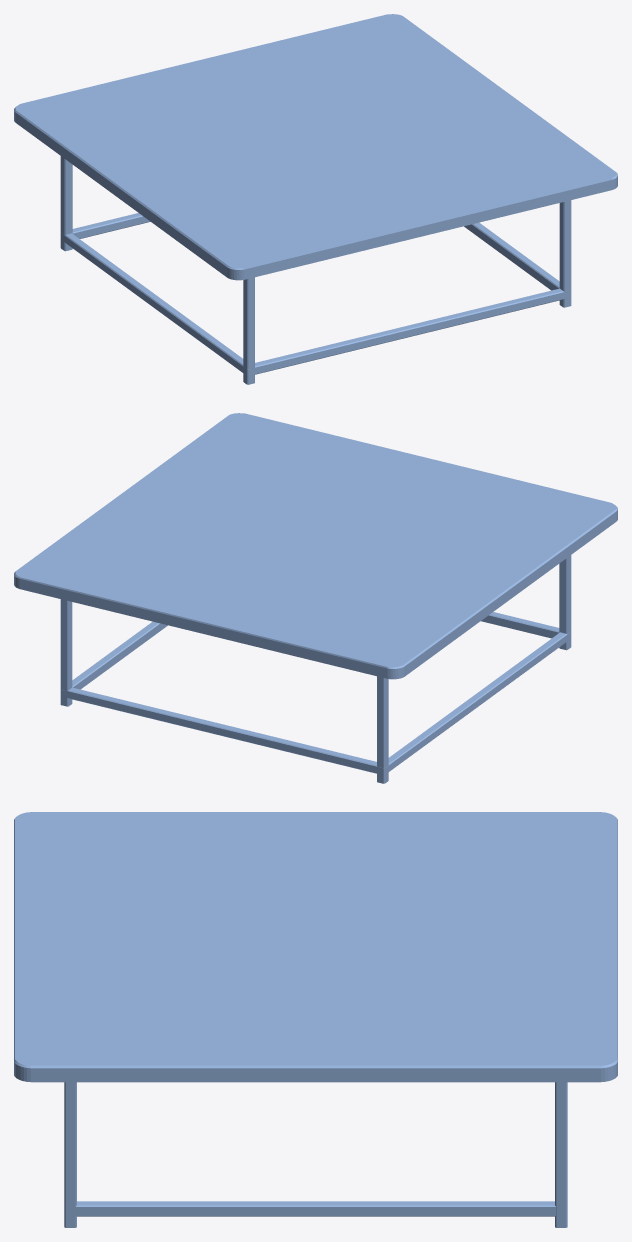
Rendered from TableSq_2_4m_black_noMap.obj.
3 renders of one model, top to bottom at view 1: azimuth 30°, elevation 25°; view 2: azimuth 150°, elevation 25°; view 3: azimuth 270°, elevation 25°, orthographic. The views are drawn at different scales.
Parts seen in each view (by area): view 1: tableSQ_2_4; view 2: tableSQ_2_4; view 3: tableSQ_2_4.
Boxes of the visible parts, x1=… form: tableSQ_2_4: x1=14, y1=14, x2=617, y2=384; tableSQ_2_4: x1=14, y1=413, x2=617, y2=783; tableSQ_2_4: x1=14, y1=812, x2=617, y2=1227.
Size of the model in its own units: 94.49 by 31.51 by 94.49.
